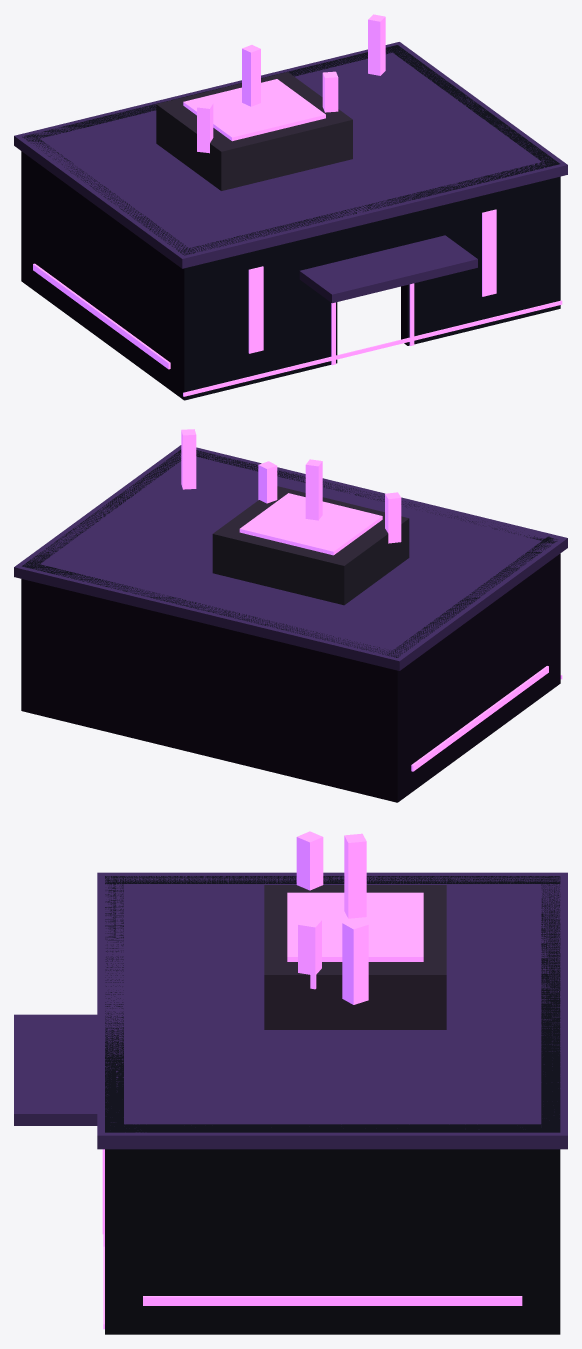
File: shaddai_dist_void_b2_v01.glb
The picture shows the model from 3 angles, top to bottom: view 1: azimuth 30°, elevation 25°; view 2: azimuth 150°, elevation 25°; view 3: azimuth 270°, elevation 25°; orthographic projection. The views are drawn at different scales.
Visible parts, largest first — view 1: shaddai_dist_void_b2; view 2: shaddai_dist_void_b2; view 3: shaddai_dist_void_b2.
Boxes of the visible parts, x1,y1,x2,y2 form: shaddai_dist_void_b2: [14, 14, 567, 400]; shaddai_dist_void_b2: [14, 429, 567, 802]; shaddai_dist_void_b2: [14, 831, 567, 1334].
Size of the model in its own units: 16.4 by 10.08 by 14.6.
